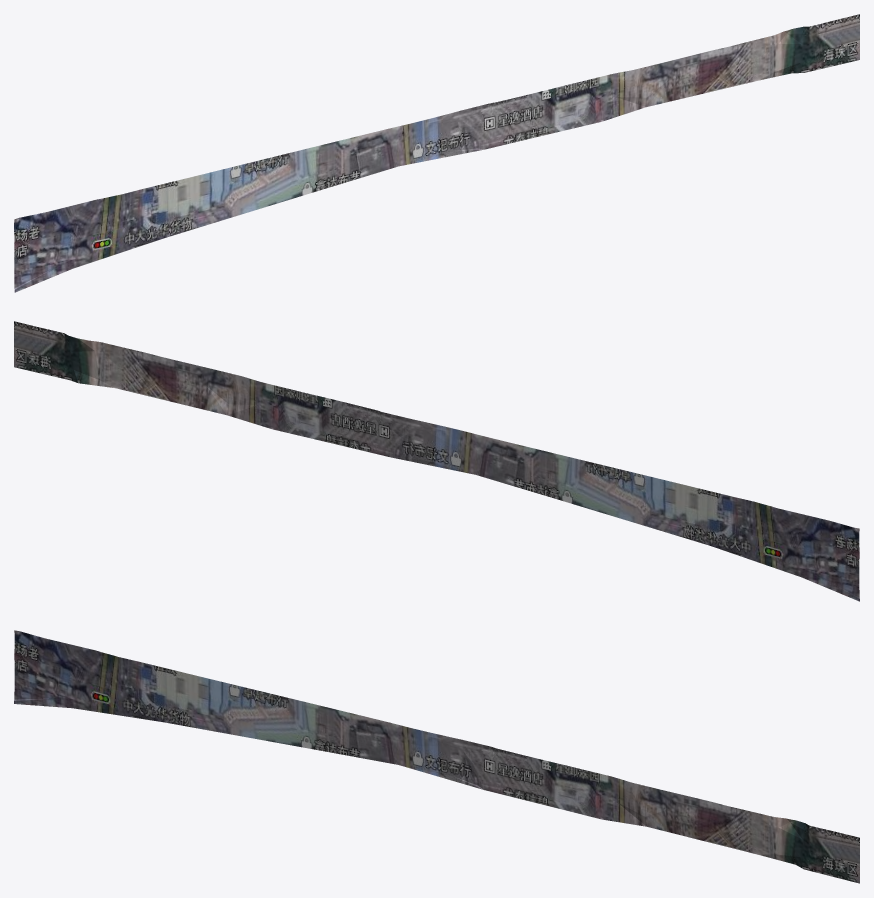
The picture shows the model from 3 angles, top to bottom: view 1: azimuth 30°, elevation 25°; view 2: azimuth 150°, elevation 25°; view 3: azimuth 330°, elevation 25°; orthographic projection.
Visible parts, largest first — view 1: 0_2_3_0_0; view 2: 0_2_3_0_0; view 3: 0_2_3_0_0.
Part boxes in pixels (x1,y1,x2,y2): 0_2_3_0_0: (14,14,859,292); 0_2_3_0_0: (14,321,859,601); 0_2_3_0_0: (14,630,859,883).
Size of the model in its own units: 972 by 80.6 by 4.99.
Materials: 1 (1 with a texture image).
